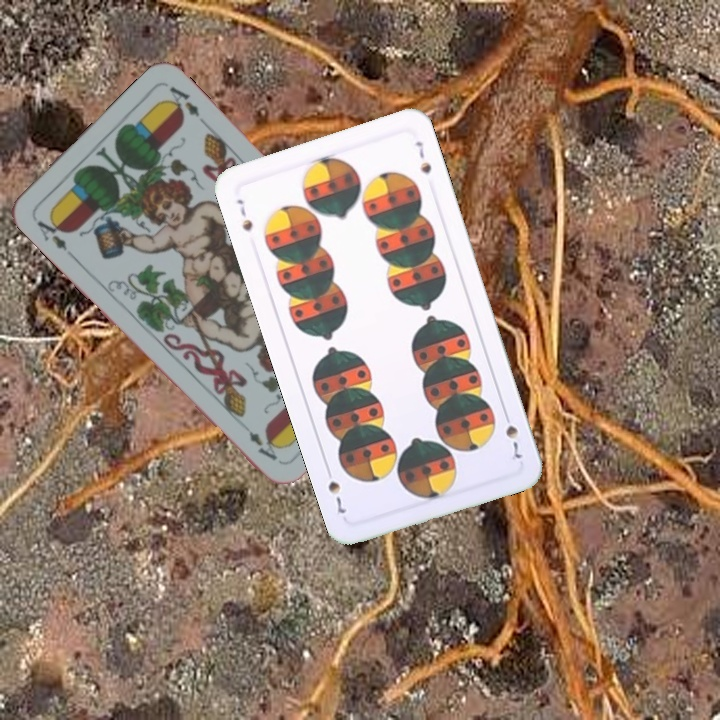EA: (32, 211, 76, 259)
S7: (499, 407, 524, 462), (232, 195, 256, 234)
